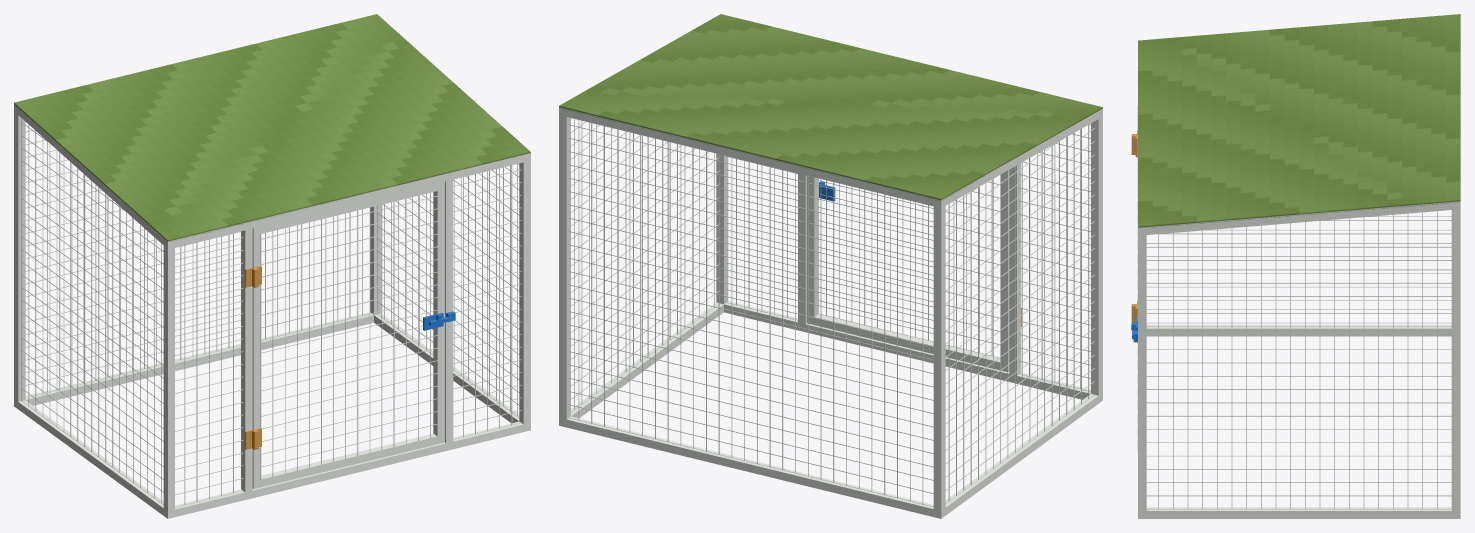
File: white-cage.glb
3 views of the same model, side by side, from view 1: azimuth 30°, elevation 25°; view 2: azimuth 150°, elevation 25°; view 3: azimuth 270°, elevation 25° (orthographic). The views are drawn at different scales.
Parts seen in each view (by area): view 1: Cage frame, Door hinge; view 2: Cage frame, Door hinge; view 3: Cage frame, Door hinge.
Part boxes in pixels (<box>): Cage frame: <box>14,14,530,518</box>; Door hinge: <box>252,181,452,488</box>; Cage frame: <box>559,14,1102,518</box>; Door hinge: <box>807,170,1009,371</box>; Cage frame: <box>1131,14,1460,518</box>; Door hinge: <box>1131,105,1137,453</box>.
Size of the model in its own units: 1.5 by 1.2 by 1.12.
